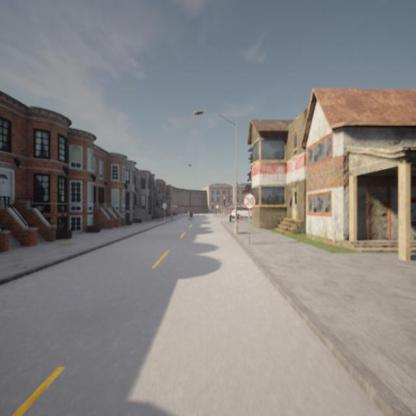traffic_sign_30: (243, 194, 256, 209)
